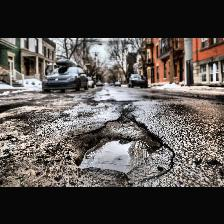pothole: (71, 116, 164, 172), (0, 102, 24, 113)
